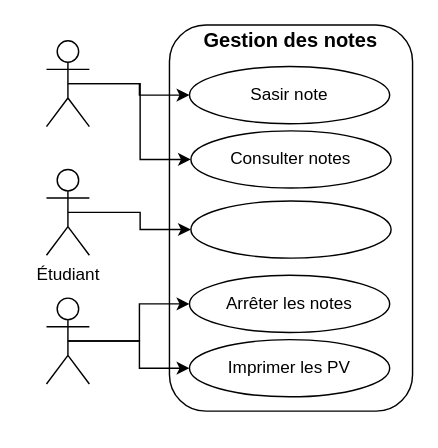
This 438x448 diagram has some shape labels left out. Each missing label, with the centre of its shape:
Consulter ses notes: the point at 290,228
Enseignant: the point at 67,83
Scolarité: the point at 67,340
